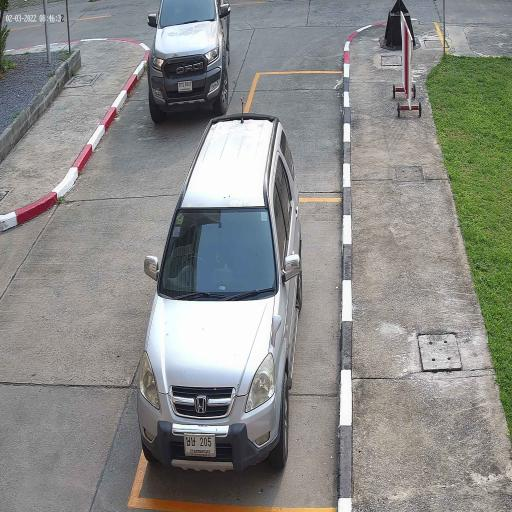car: (136, 111, 303, 478), (146, 0, 232, 125)
